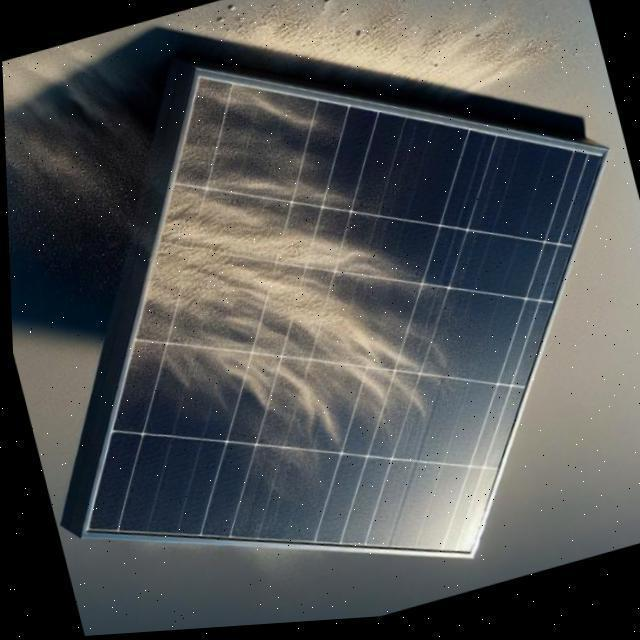Anomaly Solar Panel: (82, 67, 606, 610)
Surface Contaminant: (105, 80, 521, 539)
